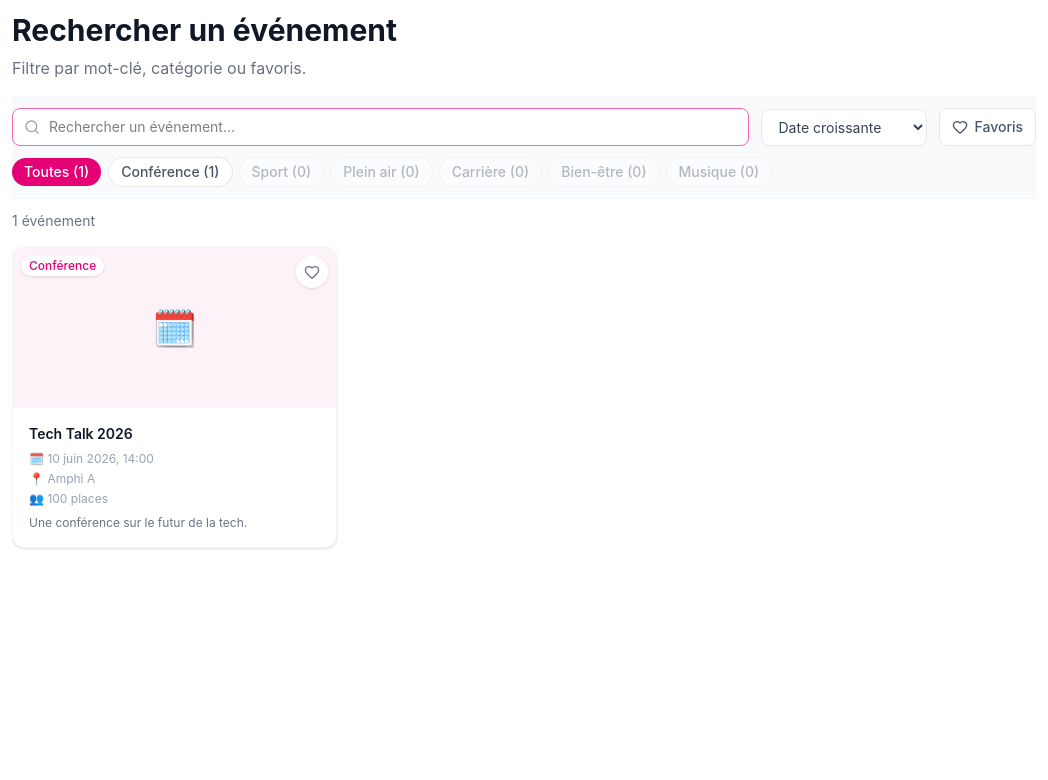
Test case: EventsPage › clears active filters
The image size is (1048, 780).
Expected: the heading "Tech Talk 2026" is shown, [29,425,133,442]
Type "zzz" into the field with placeholder "Rechercher un événement…" at (381, 127), box [12,108,750,146]
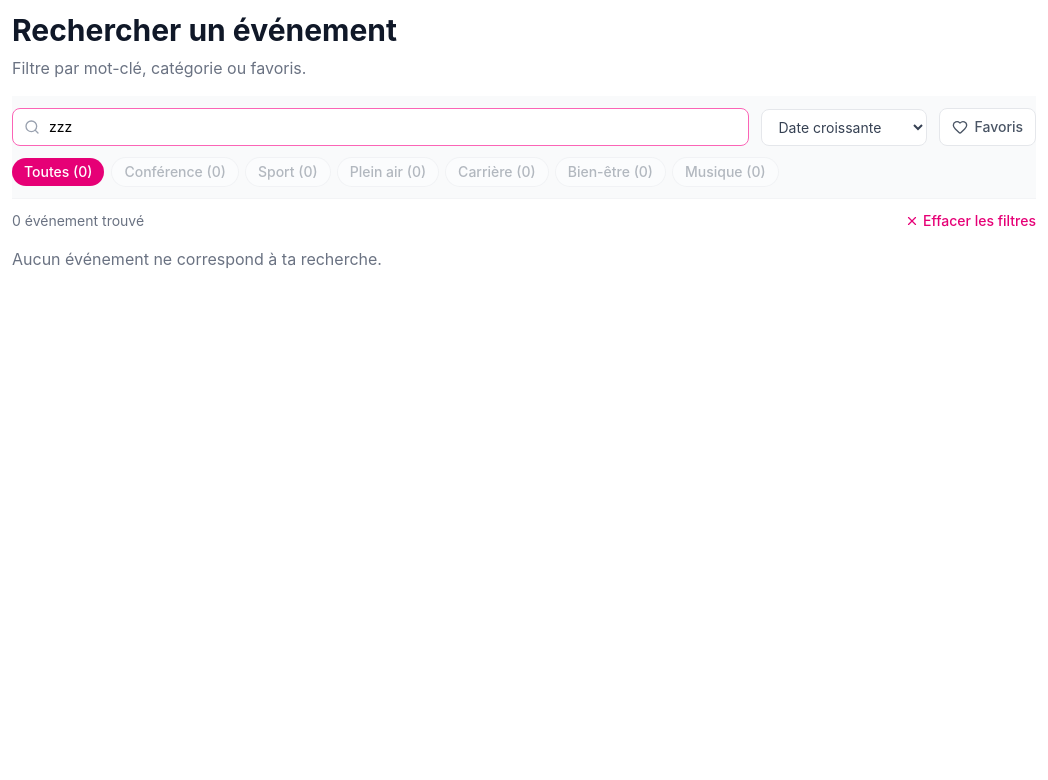
Now the link "Tech Talk 2026" is gone
Click the button "Effacer les filtres" at (970, 221), box [905,211,1036,231]
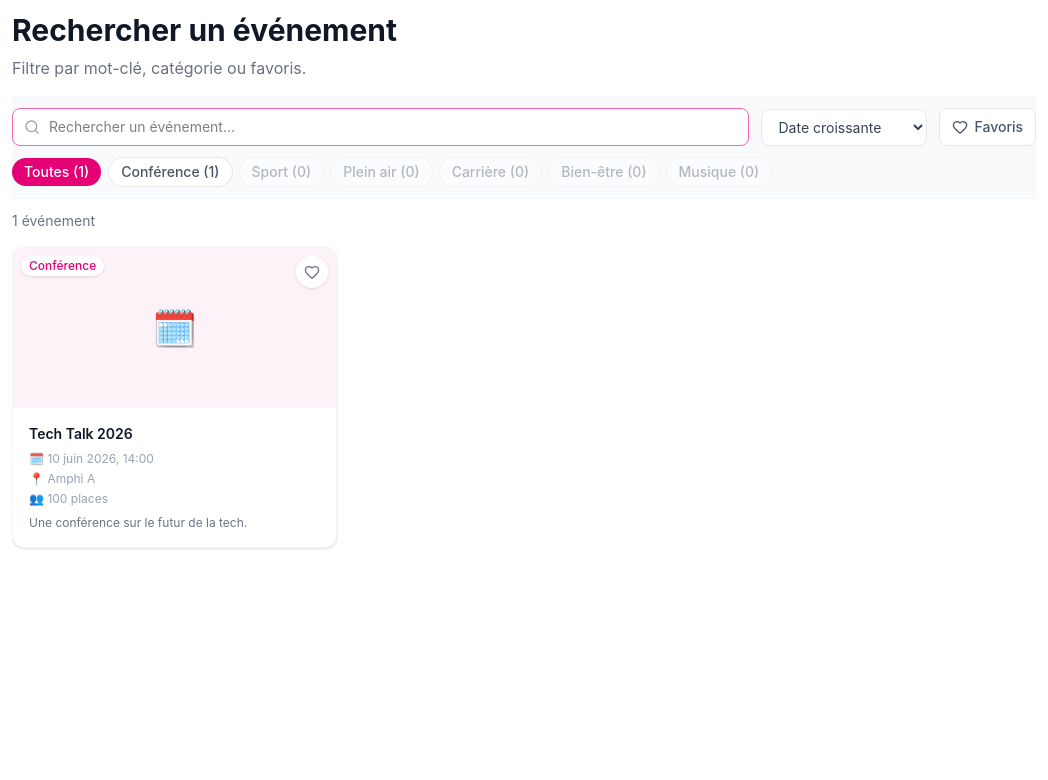
Now the heading "Tech Talk 2026" is shown, box [29,425,133,442]
